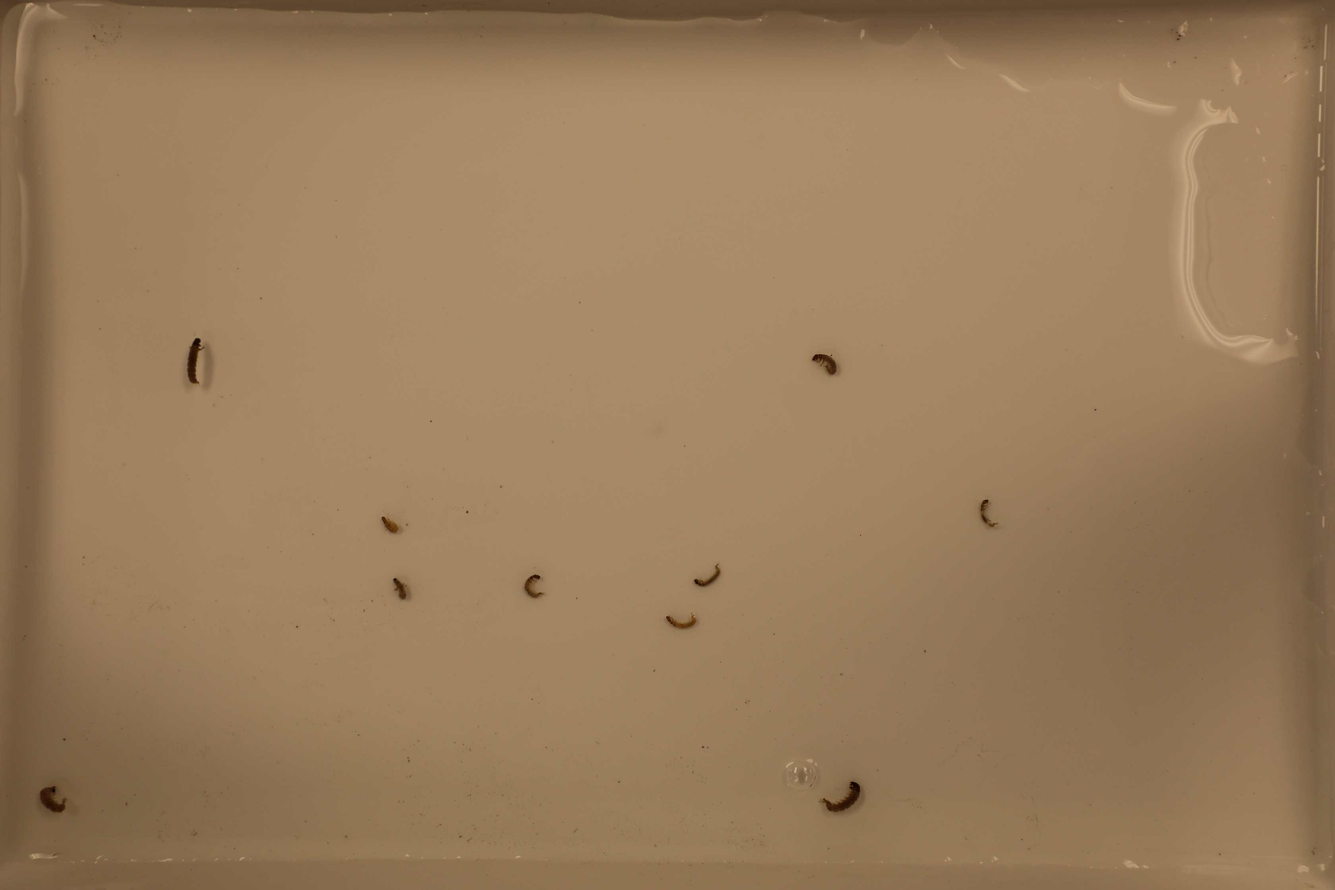Cadisfly: (804, 342, 847, 381), (180, 332, 208, 390), (821, 778, 862, 814), (657, 606, 700, 632), (38, 783, 69, 817), (373, 510, 405, 540), (976, 497, 1001, 533), (692, 560, 723, 589), (386, 575, 414, 603), (520, 575, 547, 599)
